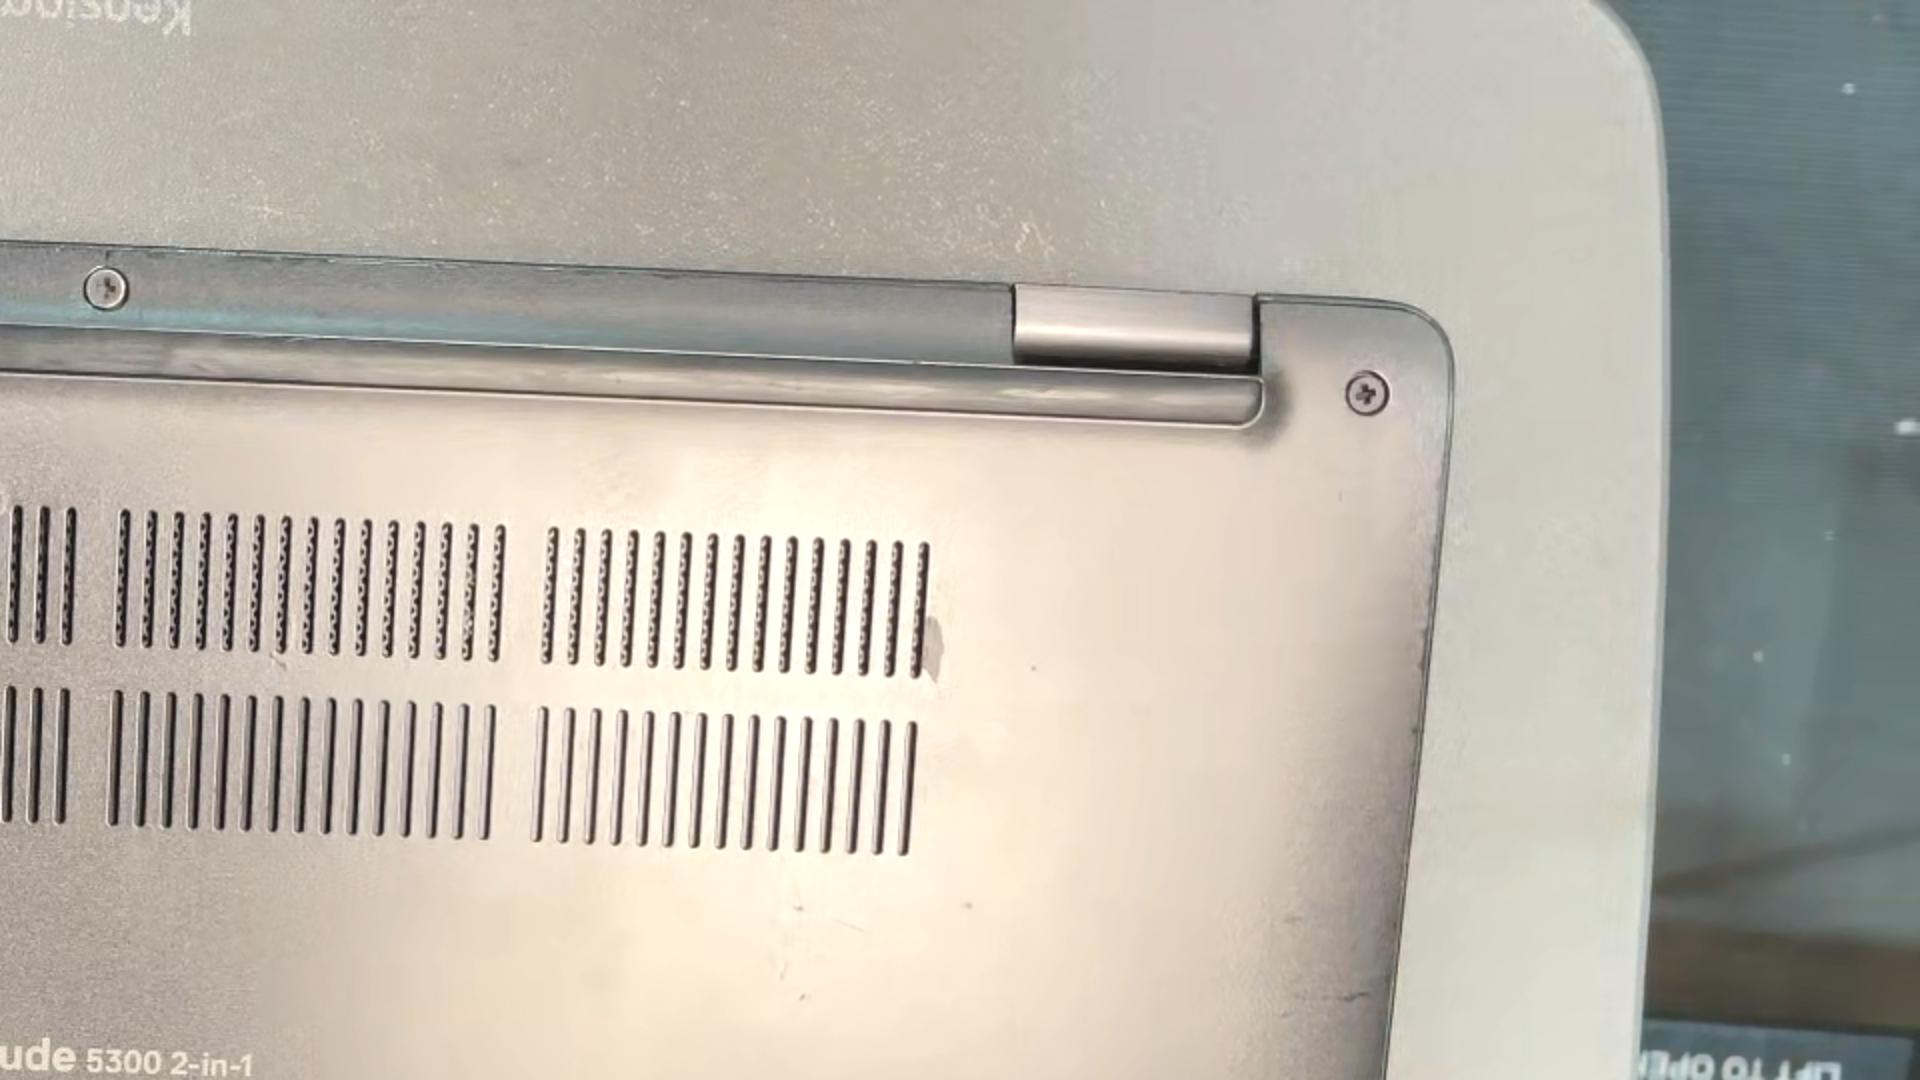scratches: (791, 902, 870, 936), (1315, 989, 1373, 1005)
